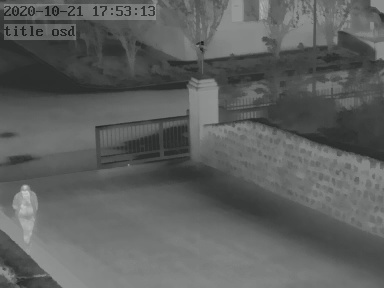person: (13, 181, 40, 249)
